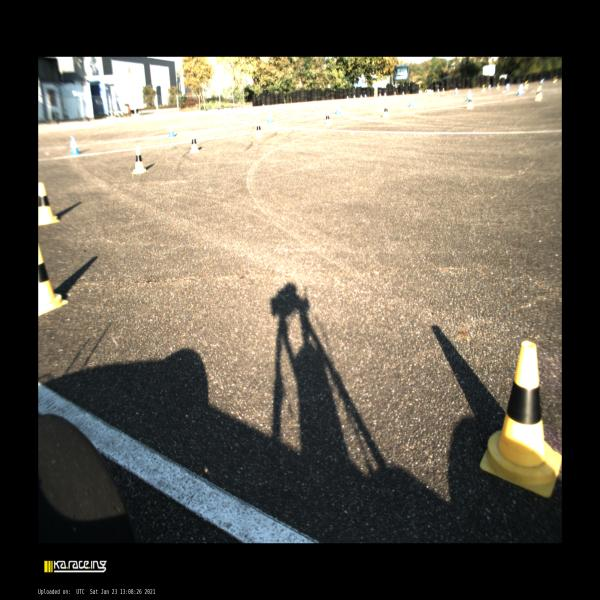blue_cone: (69, 135, 80, 154), (168, 123, 174, 137), (267, 110, 273, 123), (335, 102, 341, 115), (517, 84, 523, 95), (409, 97, 414, 107), (465, 92, 469, 101), (506, 83, 510, 91), (455, 87, 458, 94), (488, 84, 491, 90), (437, 88, 440, 94), (419, 90, 422, 96), (364, 94, 367, 99), (353, 94, 356, 99), (346, 95, 349, 100), (384, 92, 386, 97), (360, 94, 362, 99), (402, 91, 404, 95), (379, 93, 381, 97)
yellow_cone: (484, 341, 560, 501), (38, 244, 69, 316), (38, 182, 60, 226), (131, 149, 146, 175), (189, 134, 200, 153), (255, 122, 262, 138), (466, 95, 474, 109), (534, 86, 542, 100), (383, 105, 389, 118), (325, 113, 331, 125), (481, 85, 485, 92), (524, 82, 528, 88), (496, 83, 499, 90), (442, 88, 445, 94), (425, 89, 427, 94)
